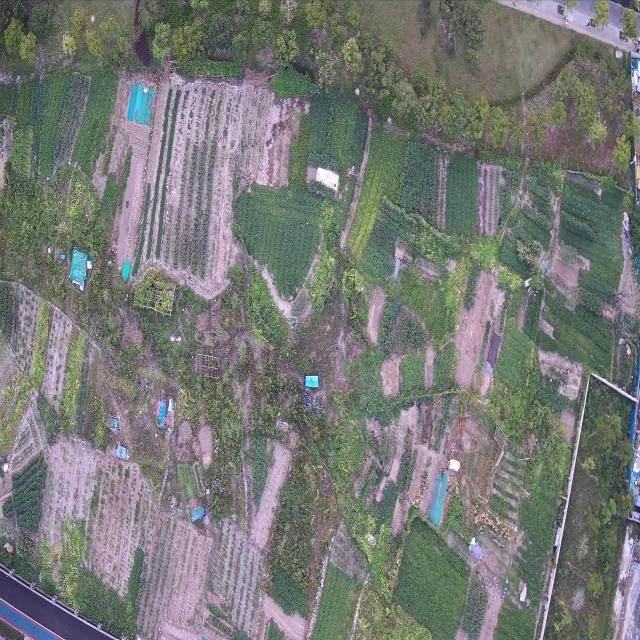UAV: (385, 252, 408, 291)
